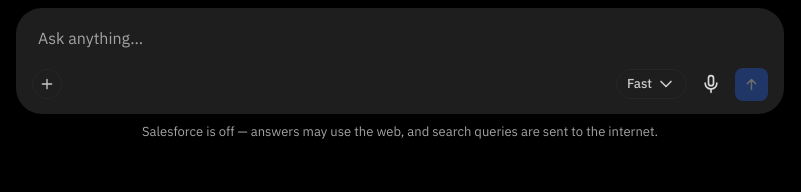
Scenario: the composer offering dictation › replaces the controls row while recording rather than sitting beside it
The width and height of the screenshot is (801, 192).
Expected: the button named "Send message" is shown, left=735, top=68, right=768, bottom=100
Click the button named "Start voice input".
click(711, 84)  # box left=693, top=66, right=729, bottom=102
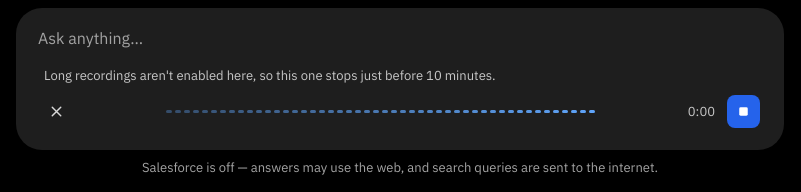
Expected: the button named "Stop recording and transcribe" is shown, left=727, top=95, right=760, bottom=128
